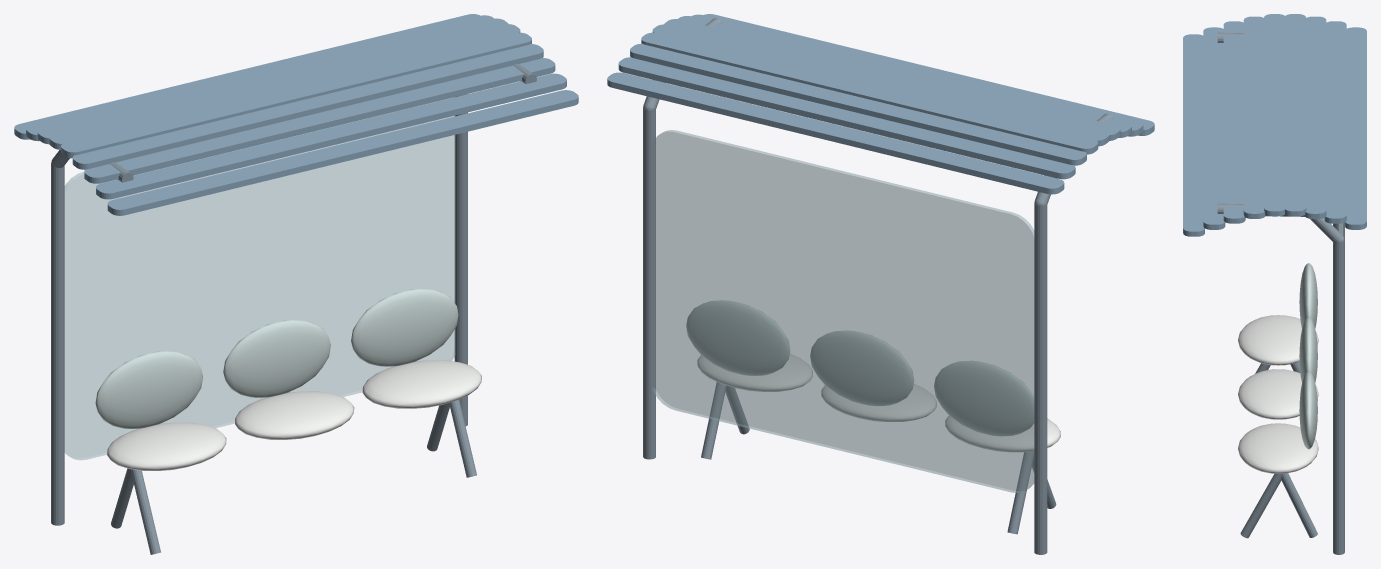
The model's file is bus_shelter.glb.
The picture shows the model from 3 angles, left to right: view 1: azimuth 30°, elevation 25°; view 2: azimuth 150°, elevation 25°; view 3: azimuth 270°, elevation 25°; orthographic projection. The views are drawn at different scales.
Parts seen in each view (by area): view 1: decor_88b9ca_glass, decor_476a8a_matte, decor_9bb7b5_fabric, decor_d8dcd8_fabric, decor_455665_metal; view 2: decor_88b9ca_glass, decor_476a8a_matte, decor_9bb7b5_fabric, decor_455665_metal, decor_d8dcd8_fabric; view 3: decor_476a8a_matte, decor_d8dcd8_fabric, decor_455665_metal, decor_9bb7b5_fabric.
Boxes of the visible parts, x1,y1,x2,y2 form: decor_88b9ca_glass: (64,98,455,460); decor_476a8a_matte: (14,14,578,215); decor_9bb7b5_fabric: (95,288,458,429); decor_d8dcd8_fabric: (107,360,481,470); decor_455665_metal: (51,64,536,554); decor_88b9ca_glass: (652,130,1034,492); decor_476a8a_matte: (607,14,1154,194); decor_9bb7b5_fabric: (686,300,1033,436); decor_455665_metal: (643,18,1113,554); decor_d8dcd8_fabric: (697,353,1060,451); decor_476a8a_matte: (1183,14,1366,236); decor_d8dcd8_fabric: (1238,315,1318,473); decor_455665_metal: (1217,32,1344,554); decor_9bb7b5_fabric: (1299,263,1317,449).
Size of the model in its own units: 2.77 by 2.34 by 1.09.
